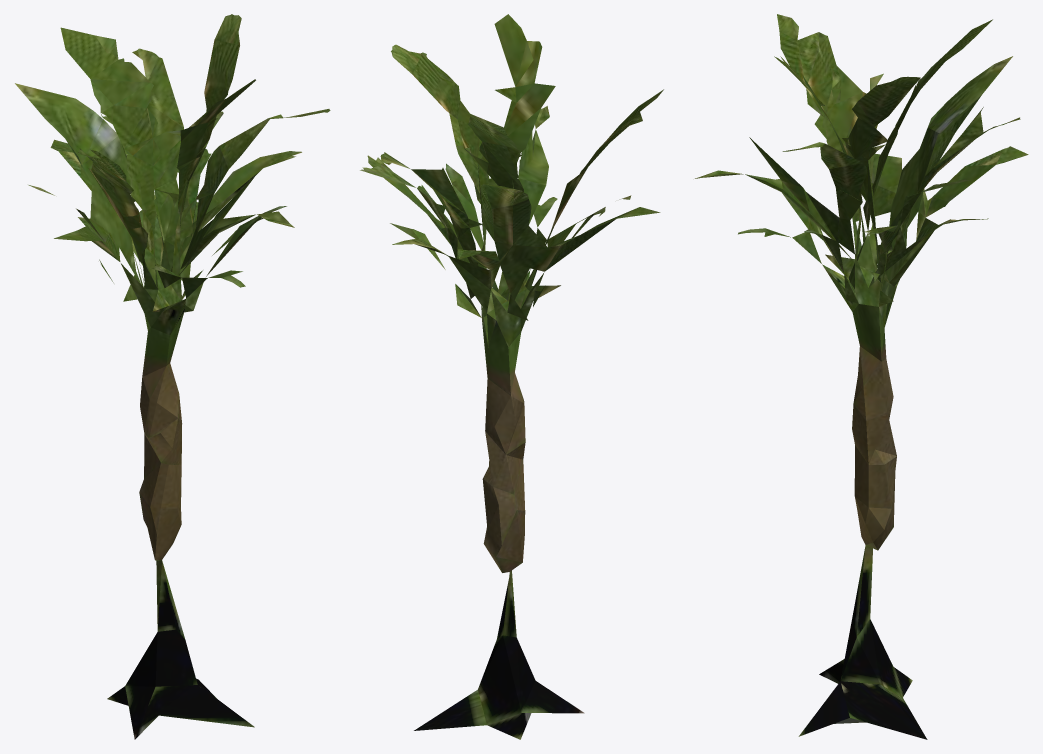
Rendered from mall_planter_low.glb.
The picture shows the model from 3 angles, left to right: view 1: azimuth 30°, elevation 25°; view 2: azimuth 150°, elevation 25°; view 3: azimuth 270°, elevation 25°; orthographic projection. The views are drawn at different scales.
Parts seen in each view (by area): view 1: output_unwrapped; view 2: output_unwrapped; view 3: output_unwrapped.
Part boxes in pixels (x1,y1,x2,y2): output_unwrapped: (15, 14, 330, 739); output_unwrapped: (360, 14, 663, 739); output_unwrapped: (695, 14, 1028, 739).
Bounding box in the file's own units: 1.36 × 3.2 × 1.44.
Materials: 1 (1 with a texture image).
